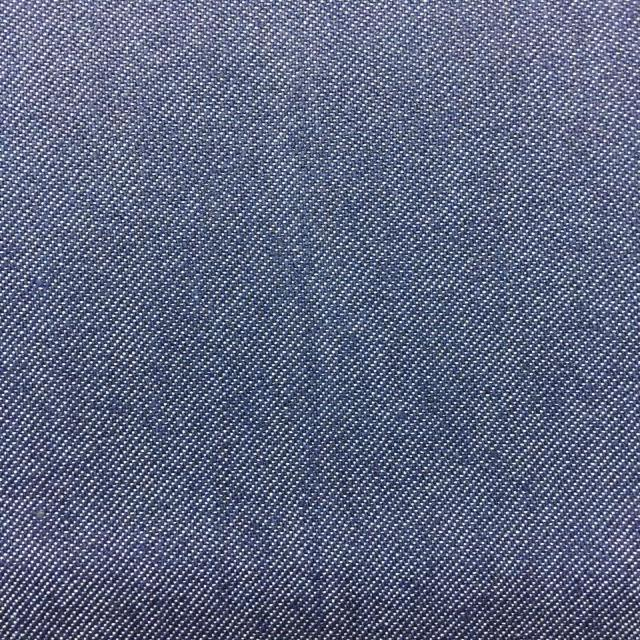Line: (290, 0, 334, 640)
